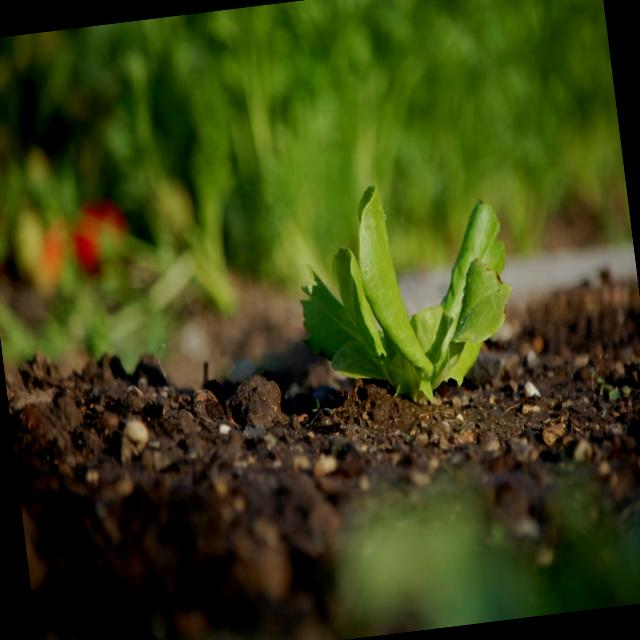verde: (300, 185, 510, 405)
